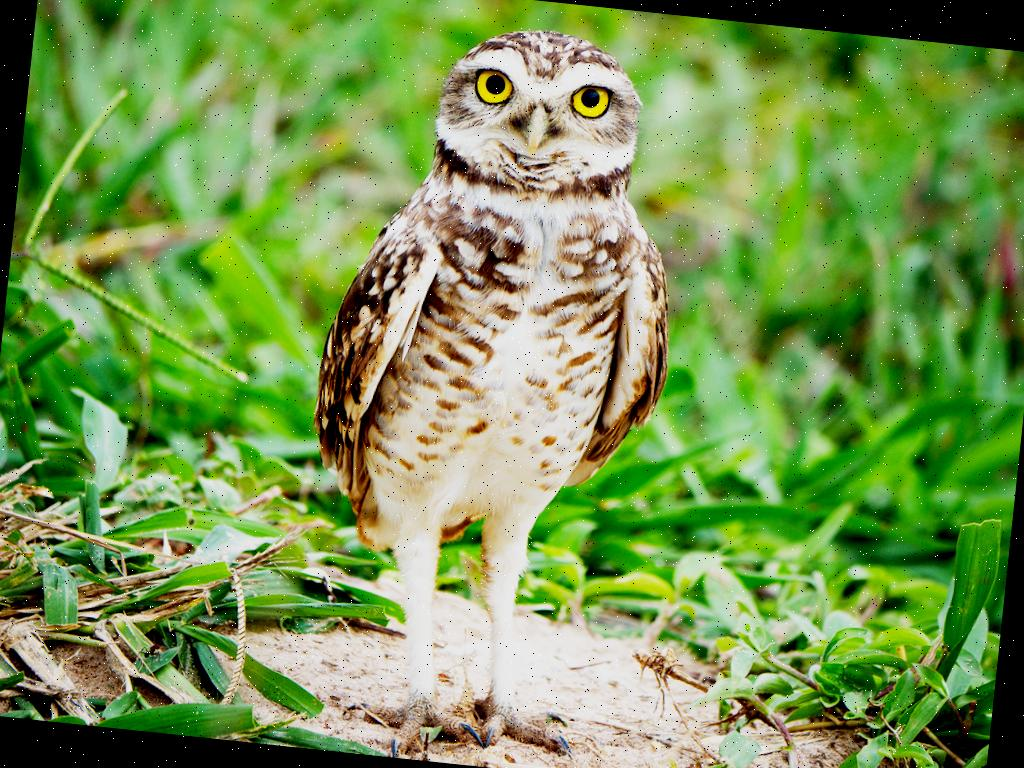Owl: (279, 11, 703, 768)
